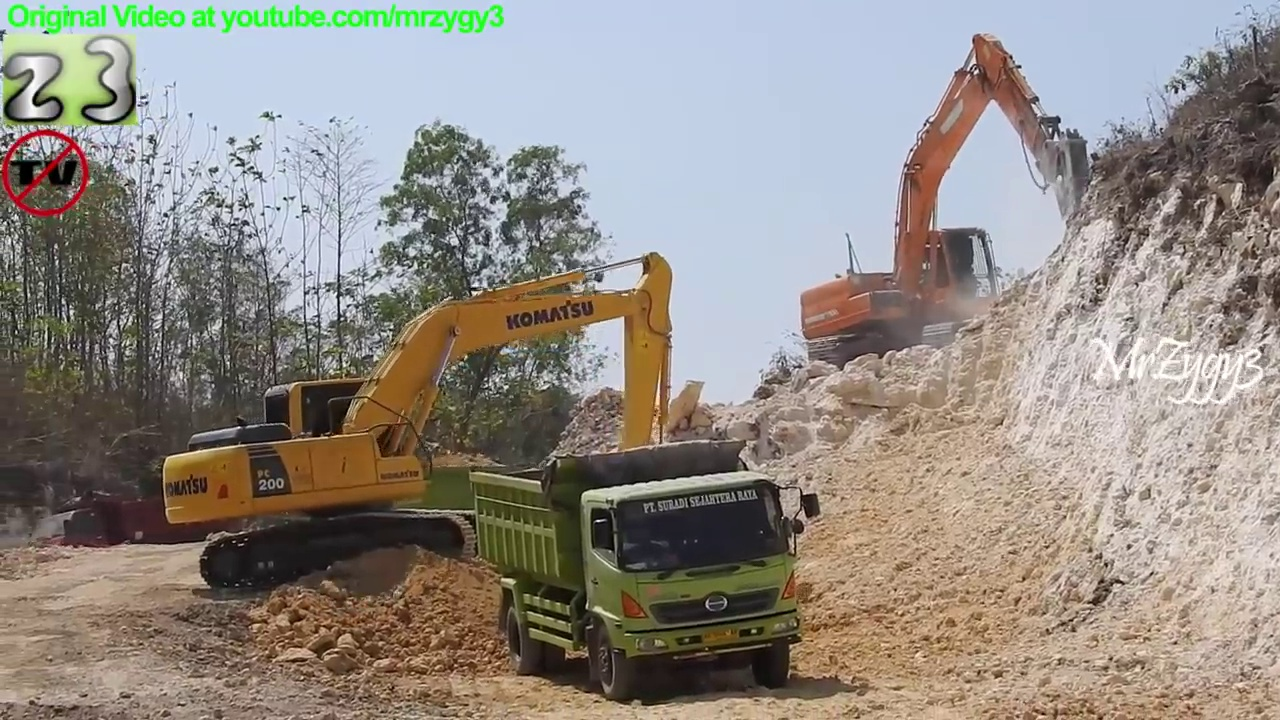excavator: (160, 248, 699, 599), (799, 27, 1103, 378)
truck: (469, 437, 831, 705)
